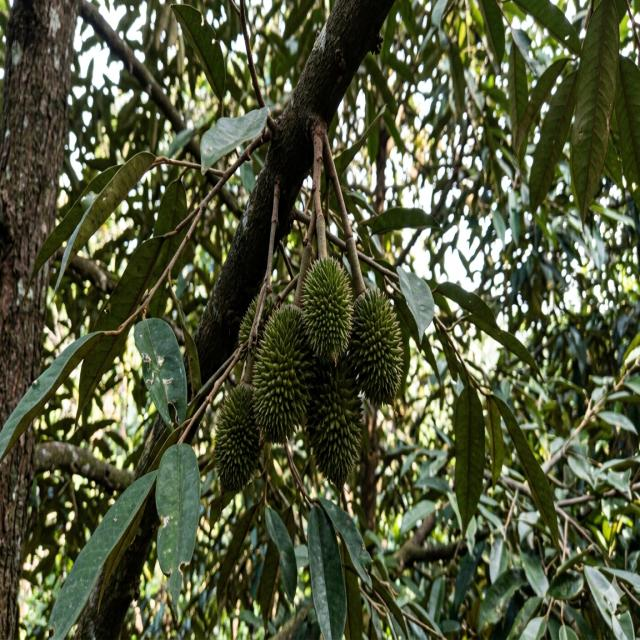immature: (252, 303, 314, 443), (305, 357, 364, 485), (346, 286, 402, 403), (300, 255, 354, 362), (212, 385, 262, 492), (270, 305, 308, 368), (237, 294, 265, 352)
